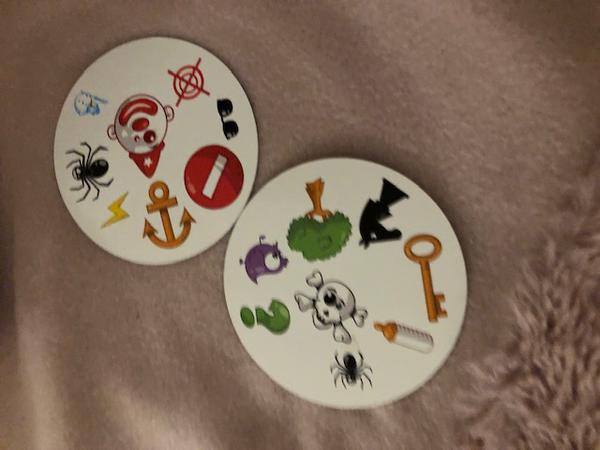ancre: (141, 178, 194, 250)
araignee: (56, 138, 115, 206), (322, 343, 379, 399)
arbre: (284, 175, 351, 266)
biberon: (369, 314, 437, 358)
bonhomme_neige: (63, 85, 112, 119)
cible: (166, 57, 209, 108)
clown: (109, 91, 176, 178)
eclair: (98, 189, 132, 232)
lunette: (217, 97, 241, 141)
oiseau: (236, 230, 290, 286)
point_interrogation: (234, 296, 298, 342)
sens_interdit: (182, 144, 247, 211)
tete_mort: (294, 270, 370, 348)
